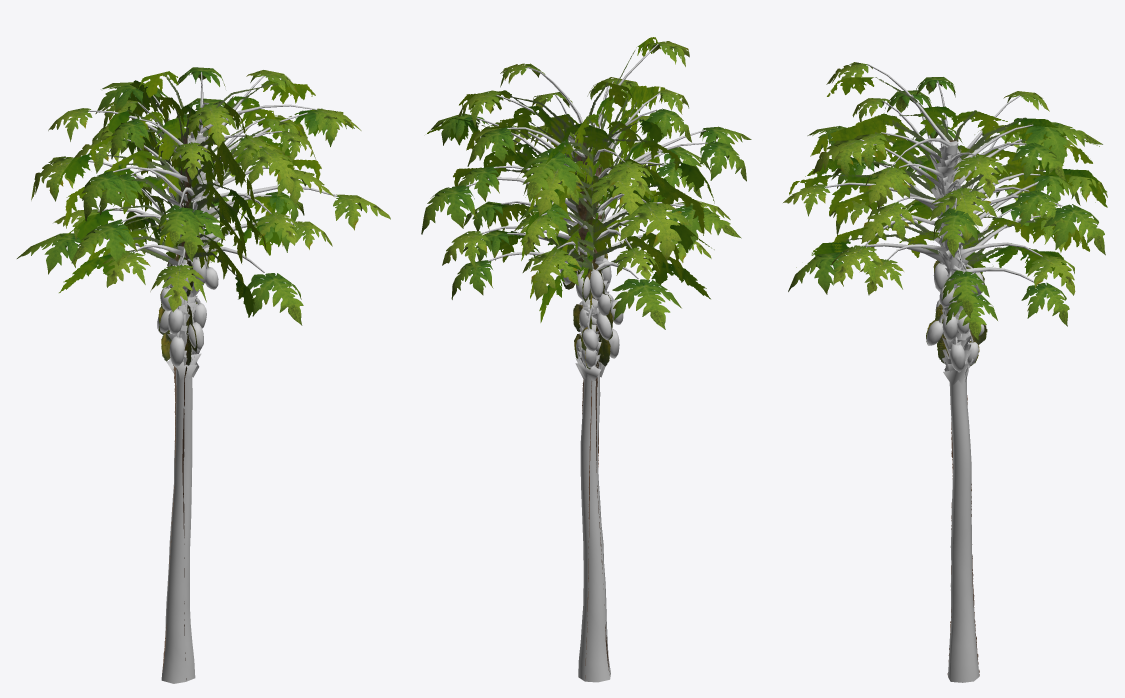
File: Papaya2.fbx
3 views of the same model, side by side, from view 1: azimuth 30°, elevation 25°; view 2: azimuth 150°, elevation 25°; view 3: azimuth 270°, elevation 25° (orthographic).
Parts seen in each view (by area): view 1: LOD0, Billboard; view 2: LOD0, Billboard; view 3: LOD0, Billboard.
Part boxes in pixels (x1,y1,x2,y2): LOD0: [17, 67, 390, 683]; Billboard: [55, 71, 347, 679]; LOD0: [421, 41, 751, 682]; Billboard: [427, 37, 714, 678]; LOD0: [783, 62, 1107, 682]; Billboard: [789, 77, 1107, 675].
Size of what is drawn, in the model's own units: 492 by 935 by 460.
